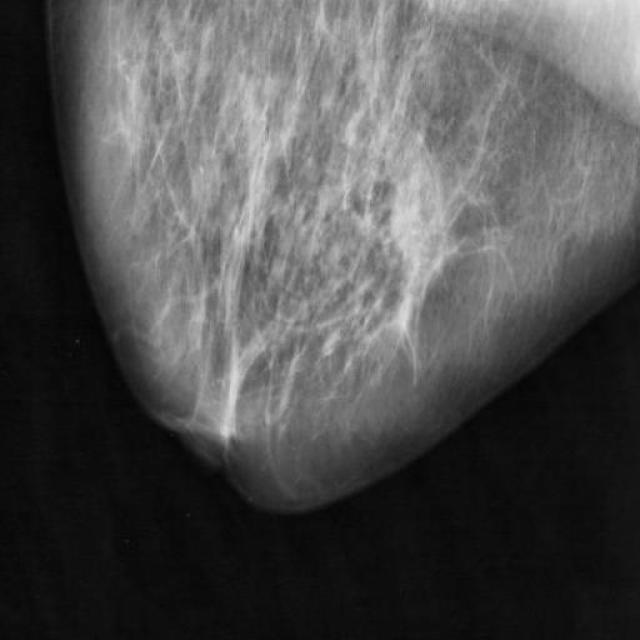cancer: (378, 281, 428, 370)
